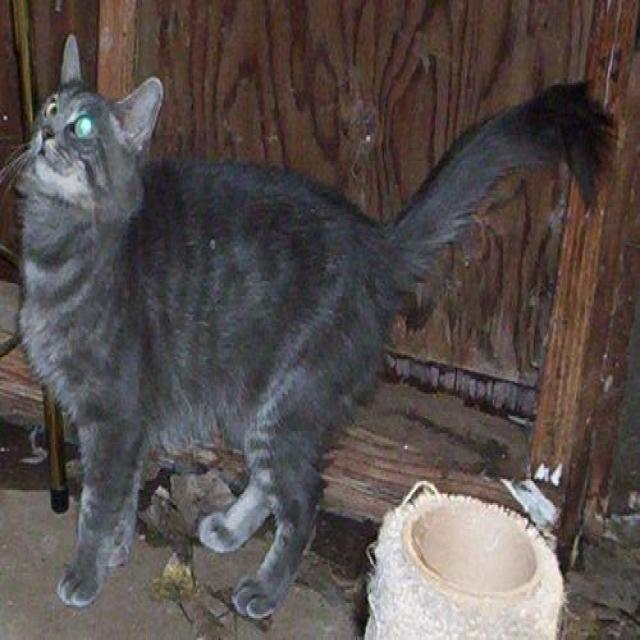cats: (3, 32, 615, 620)
